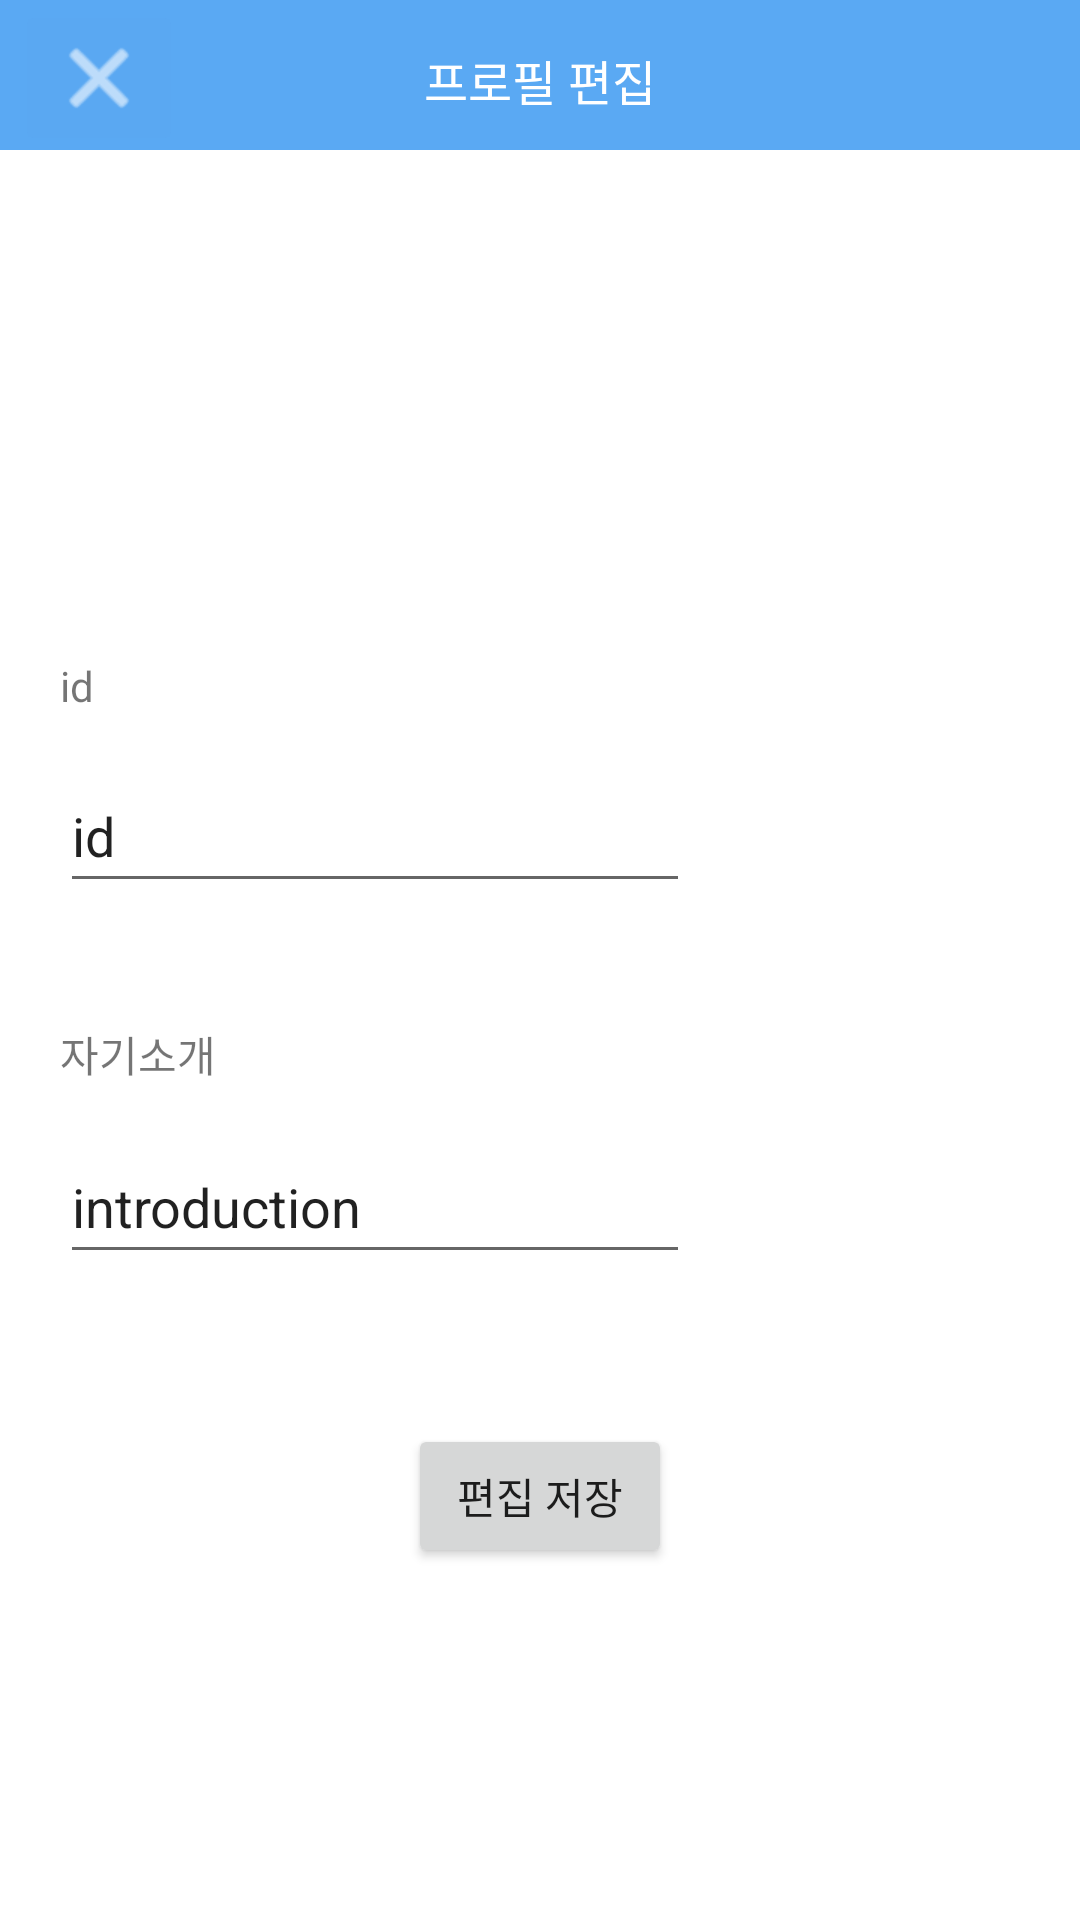

Screen size 1080px x 1920px. Icon name, then its box in pixels as (x1, y1, x2, y2):
close clear cancel: (69, 48, 129, 108)
